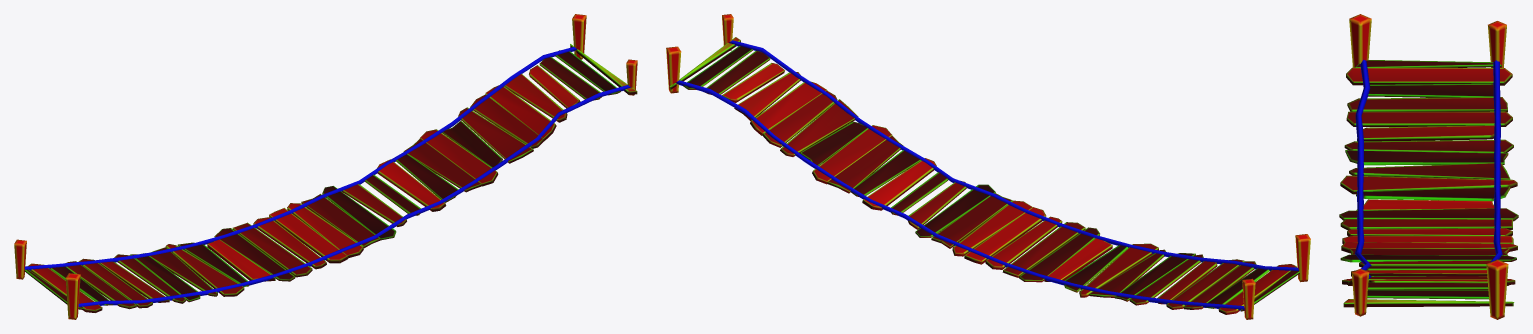
Rendered from SM_Bridge_03.FBX.
The picture shows the model from 3 angles, left to right: view 1: azimuth 30°, elevation 25°; view 2: azimuth 150°, elevation 25°; view 3: azimuth 270°, elevation 25°; orthographic projection. The views are drawn at different scales.
Parts seen in each view (by area): view 1: SM_Bridge_03; view 2: SM_Bridge_03; view 3: SM_Bridge_03.
Boxes of the visible parts, x1=… form: SM_Bridge_03: x1=14, y1=14, x2=637, y2=319; SM_Bridge_03: x1=666, y1=14, x2=1310, y2=319; SM_Bridge_03: x1=1339, y1=14, x2=1518, y2=319.
Bounding box in the file's own units: 2065 × 430 × 473.
